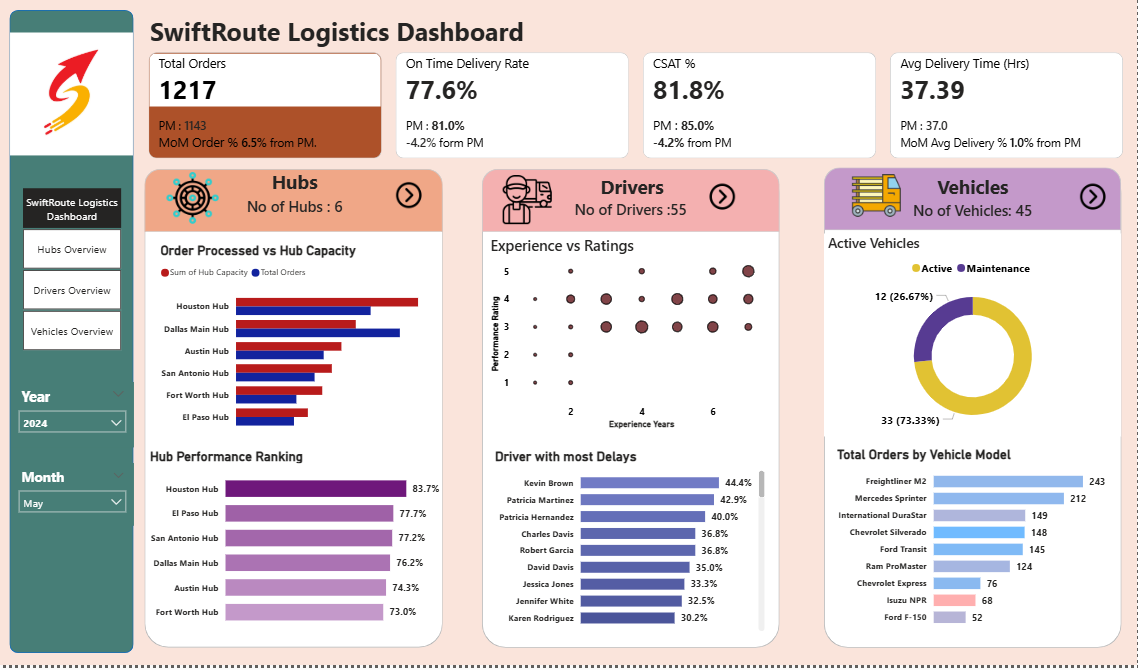

What the dashboard file says about the page in this screenshot:
{"tool":"powerbi","page":{"name":"SwiftRoute Logistics  Dashboard","canvas":[1450,850],"ordinal":0},"visuals":[{"type":"shape","box":[13.6,15.3,158.1,819.4],"z":0},{"type":"textbox","box":[186.7,15,505,56.7],"z":1000},{"type":"cardVisual","fields":{"Data":["Orders.Total Orders","Orders.On Time Delivery Rate","Orders.CSAT %","Orders.Avg Delivery Time (Hrs)"]},"box":[185,60,1253.3,150],"z":2000},{"type":"slicer","fields":{"Values":["Date Table.Year"]},"box":[15,490,156.7,83.3],"z":3000},{"type":"slicer","fields":{"Values":["Date Table.Month"]},"box":[15,593.3,156.7,80],"z":4000},{"type":"shape","box":[185,218,380,610],"z":5000},{"type":"shape","box":[185.3,217.6,380,80],"z":6000},{"type":"textbox","box":[253.3,212.5,244.8,52.7],"z":7000},{"type":"cardVisual","fields":{"Data":["Hubs.No of Hubs"]},"box":[234.6,234.6,283.9,59.5],"z":8000},{"type":"clusteredBarChart","title":"Order Processed vs Hub Capacity ","fields":{"Category":["Hubs.HubName"],"Y":["Sum(Hubs.Hub Capacity)","Orders.Total Orders"]},"box":[200.6,311.1,350.2,249.9],"z":9000},{"type":"clusteredBarChart","title":"Hub Performance Ranking","fields":{"Category":["Hubs.HubName"],"Y":["Orders.On Time Delivery Rate"]},"box":[187,572.9,379.1,238],"z":10000},{"type":"shape","box":[615.4,217.6,379.1,610.3],"z":11000},{"type":"shape","box":[1052.3,217.6,379.1,610.3],"z":12000},{"type":"shape","box":[615.4,217.6,379.1,79.9],"z":13000},{"type":"textbox","box":[683.4,217.6,244.8,52.7],"z":14000},{"type":"cardVisual","fields":{"Data":["Drivers.NO of Drivers"]},"box":[663,238,283.9,59.5],"z":15000},{"type":"scatterChart","title":"Experience vs Ratings","fields":{"X":["Drivers.Experience Years"],"Y":["Drivers.Performance Rating"],"Size":["Sum(Drivers.Experience Years)1"]},"box":[621.7,301.7,365,251.7],"z":16000},{"type":"barChart","title":"Driver with most Delays","fields":{"Category":["Orders.Driver Name"],"Y":["Orders.Delayed Delivery Rate"]},"box":[627.3,572.9,353.6,238],"z":17000},{"type":"shape","box":[1052.3,216.9,378.7,79.9],"z":18000},{"type":"cardVisual","fields":{"Data":["Vehicles.No of Vehicles"]},"box":[1099.9,239.8,283.5,60.9],"z":19000},{"type":"textbox","box":[1118.9,218.8,245.5,51.4],"z":20000},{"type":"donutChart","title":"Active Vehicles","fields":{"Category":["Vehicles.Vehicle Status"],"Y":["CountNonNull(Vehicles.Vehicle ID)"]},"box":[1052.3,300.7,378.7,258.8],"z":21000},{"type":"barChart","fields":{"Y":["Orders.Total Orders"],"Category":["Vehicles.Vehicle Model"]},"box":[1063.8,572.5,353.8,238.8],"z":22000},{"type":"image","box":[13.3,43.3,158.3,156.7],"z":23000},{"type":"textbox","box":[1051.7,15,313.3,51.7],"z":24000},{"type":"image","box":[877.2,234.6,88.4,35.7],"z":25000},{"type":"image","box":[477.7,232.9,88.4,35.7],"z":26000},{"type":"pageNavigator","box":[30.6,243.1,125.8,209.1],"z":27000},{"type":"image","box":[1349.8,234.6,88.4,35.7],"z":28000},{"type":"image","box":[200.6,222.7,91.8,66.3],"z":29000},{"type":"image","box":[623.9,226.1,100.3,62.9],"z":30000},{"type":"image","box":[1086.3,215.9,64.6,71.4],"z":31000}]}

Visuals, with their boxes in screenshot pixels (x1, y1, x2, y2), scaled from the page's 1450x850 canvas onto the 1138x670 screenshot:
shape: bbox(11, 12, 135, 658)
textbox: bbox(147, 12, 543, 57)
cardVisual - Orders.Total Orders x Orders.On Time Delivery Rate: bbox(145, 47, 1129, 166)
slicer - Date Table.Year: bbox(12, 386, 135, 452)
slicer - Date Table.Month: bbox(12, 468, 135, 531)
shape: bbox(145, 172, 443, 653)
shape: bbox(145, 172, 444, 235)
textbox: bbox(199, 168, 391, 209)
cardVisual - Hubs.No of Hubs: bbox(184, 185, 407, 232)
"Order Processed vs Hub Capacity " clusteredBarChart: bbox(157, 245, 432, 442)
"Hub Performance Ranking" clusteredBarChart: bbox(147, 452, 444, 639)
shape: bbox(483, 172, 781, 653)
shape: bbox(826, 172, 1123, 653)
shape: bbox(483, 172, 781, 234)
textbox: bbox(536, 172, 728, 213)
cardVisual - Drivers.NO of Drivers: bbox(520, 188, 743, 234)
"Experience vs Ratings" scatterChart: bbox(488, 238, 774, 436)
"Driver with most Delays" barChart: bbox(492, 452, 770, 639)
shape: bbox(826, 171, 1123, 234)
cardVisual - Vehicles.No of Vehicles: bbox(863, 189, 1086, 237)
textbox: bbox(878, 172, 1071, 213)
"Active Vehicles" donutChart: bbox(826, 237, 1123, 441)
barChart - Orders.Total Orders x Vehicles.Vehicle Model: bbox(835, 451, 1113, 639)
image: bbox(10, 34, 135, 158)
textbox: bbox(825, 12, 1071, 53)
image: bbox(688, 185, 758, 213)
image: bbox(375, 184, 444, 212)
pageNavigator: bbox(24, 192, 123, 356)
image: bbox(1059, 185, 1129, 213)
image: bbox(157, 176, 229, 228)
image: bbox(490, 178, 568, 228)
image: bbox(853, 170, 903, 226)
